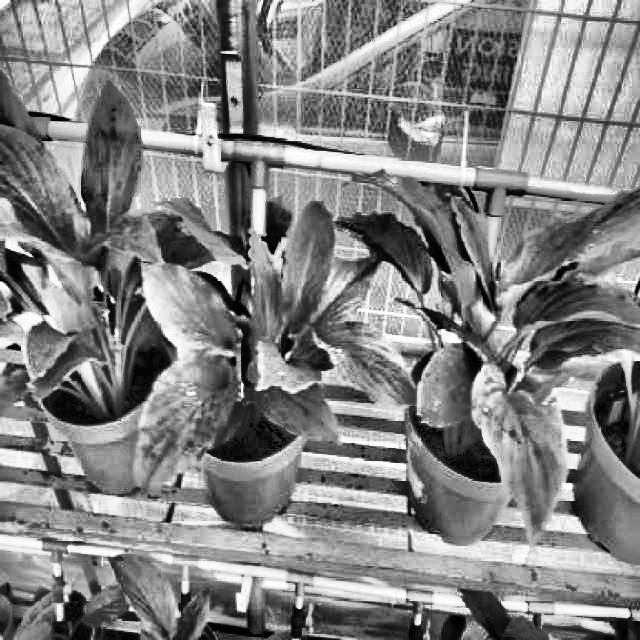plants: (335, 168, 640, 546), (134, 195, 420, 502), (0, 68, 248, 420)
